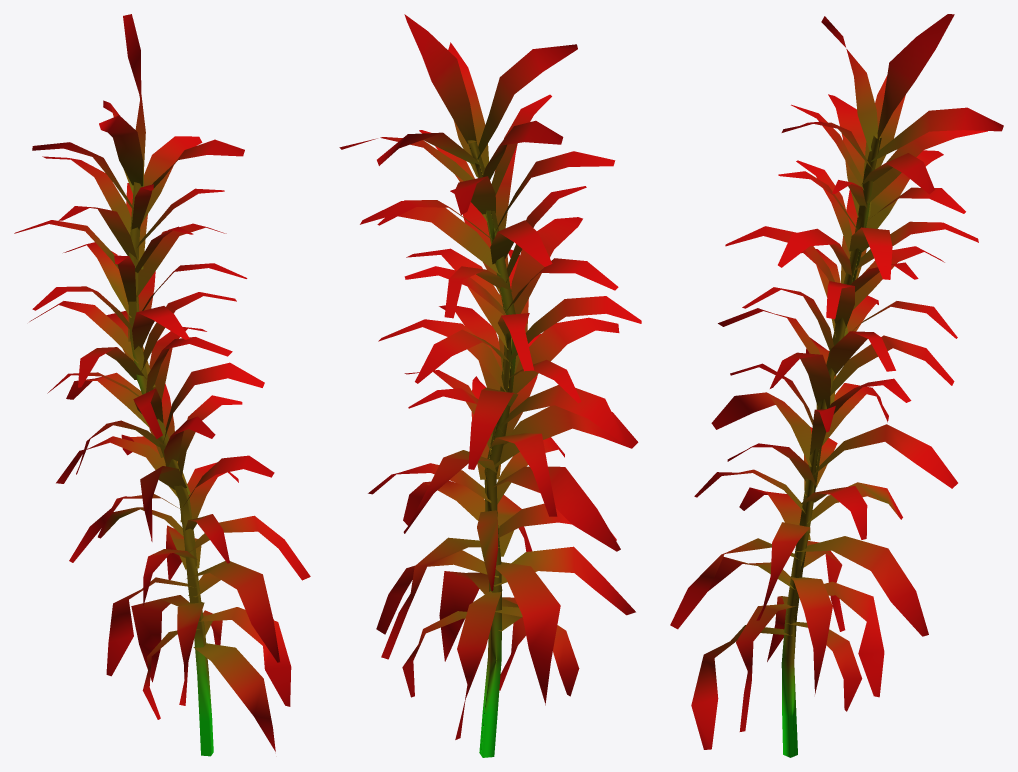
File: Dragon Tree_LOD1_Var3_siumT.fbx
3 renders of one model, left to right at view 1: azimuth 30°, elevation 25°; view 2: azimuth 150°, elevation 25°; view 3: azimuth 270°, elevation 25°, orthographic. The views are drawn at different scales.
Parts seen in each view (by area): view 1: _5dca_Var3_LOD1; view 2: _5dca_Var3_LOD1; view 3: _5dca_Var3_LOD1.
Part boxes in pixels (x1=…): _5dca_Var3_LOD1: x1=14, y1=14, x2=310, y2=756; _5dca_Var3_LOD1: x1=339, y1=14, x2=641, y2=757; _5dca_Var3_LOD1: x1=670, y1=14, x2=1003, y2=757.
Size of the model in its own units: 43.95 by 125 by 51.33.
